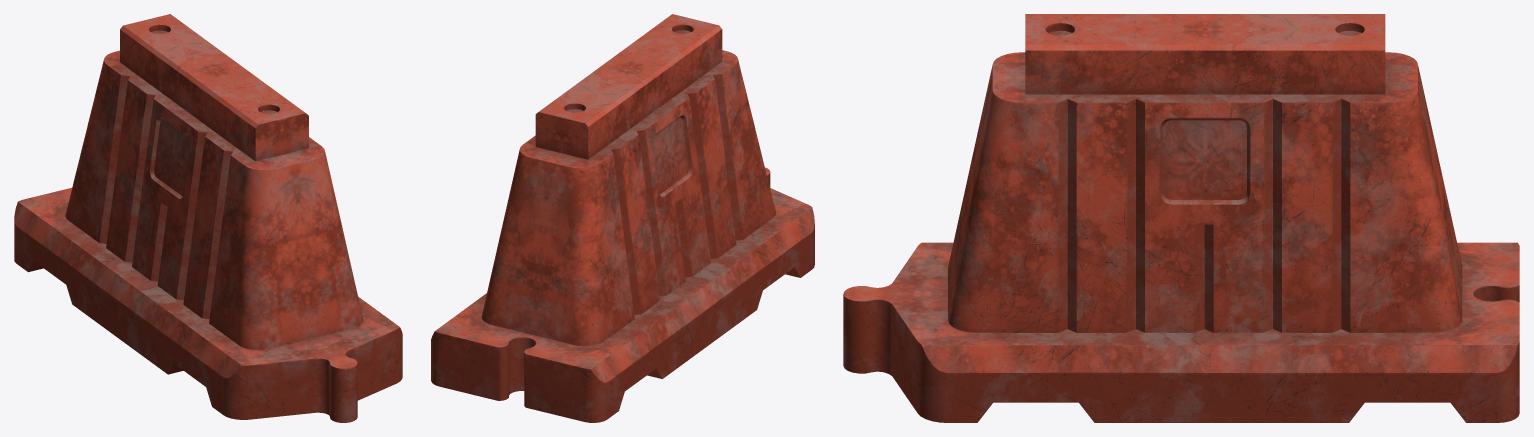
File: obstacle.glb
3 renders of one model, left to right at view 1: azimuth 30°, elevation 25°; view 2: azimuth 150°, elevation 25°; view 3: azimuth 270°, elevation 25°, orthographic. The views are drawn at different scales.
Visible parts, largest first — view 1: obstacle_low; view 2: obstacle_low; view 3: obstacle_low.
Boxes of the visible parts, bbox=[...] form: obstacle_low: bbox=[14, 14, 402, 422]; obstacle_low: bbox=[431, 14, 814, 422]; obstacle_low: bbox=[843, 14, 1519, 422].
Bounding box in the file's own units: 0.51 × 0.7 × 1.28.
1 material, 1 textured.
